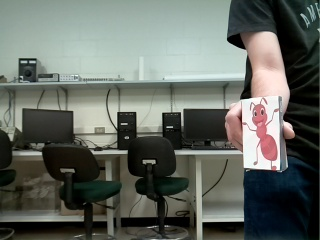Happy: (242, 97, 280, 170)
